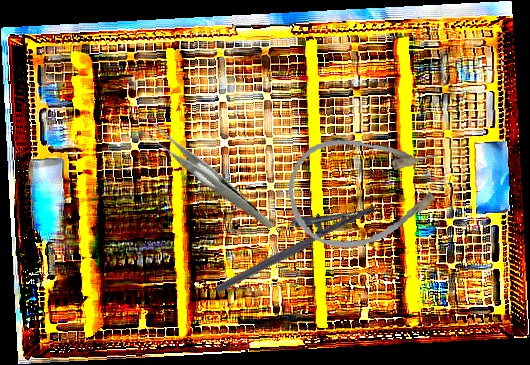Cannula: (283, 125, 449, 256)
Dressing Forceps: (141, 98, 276, 259)
Needle Holder: (203, 181, 379, 295)
